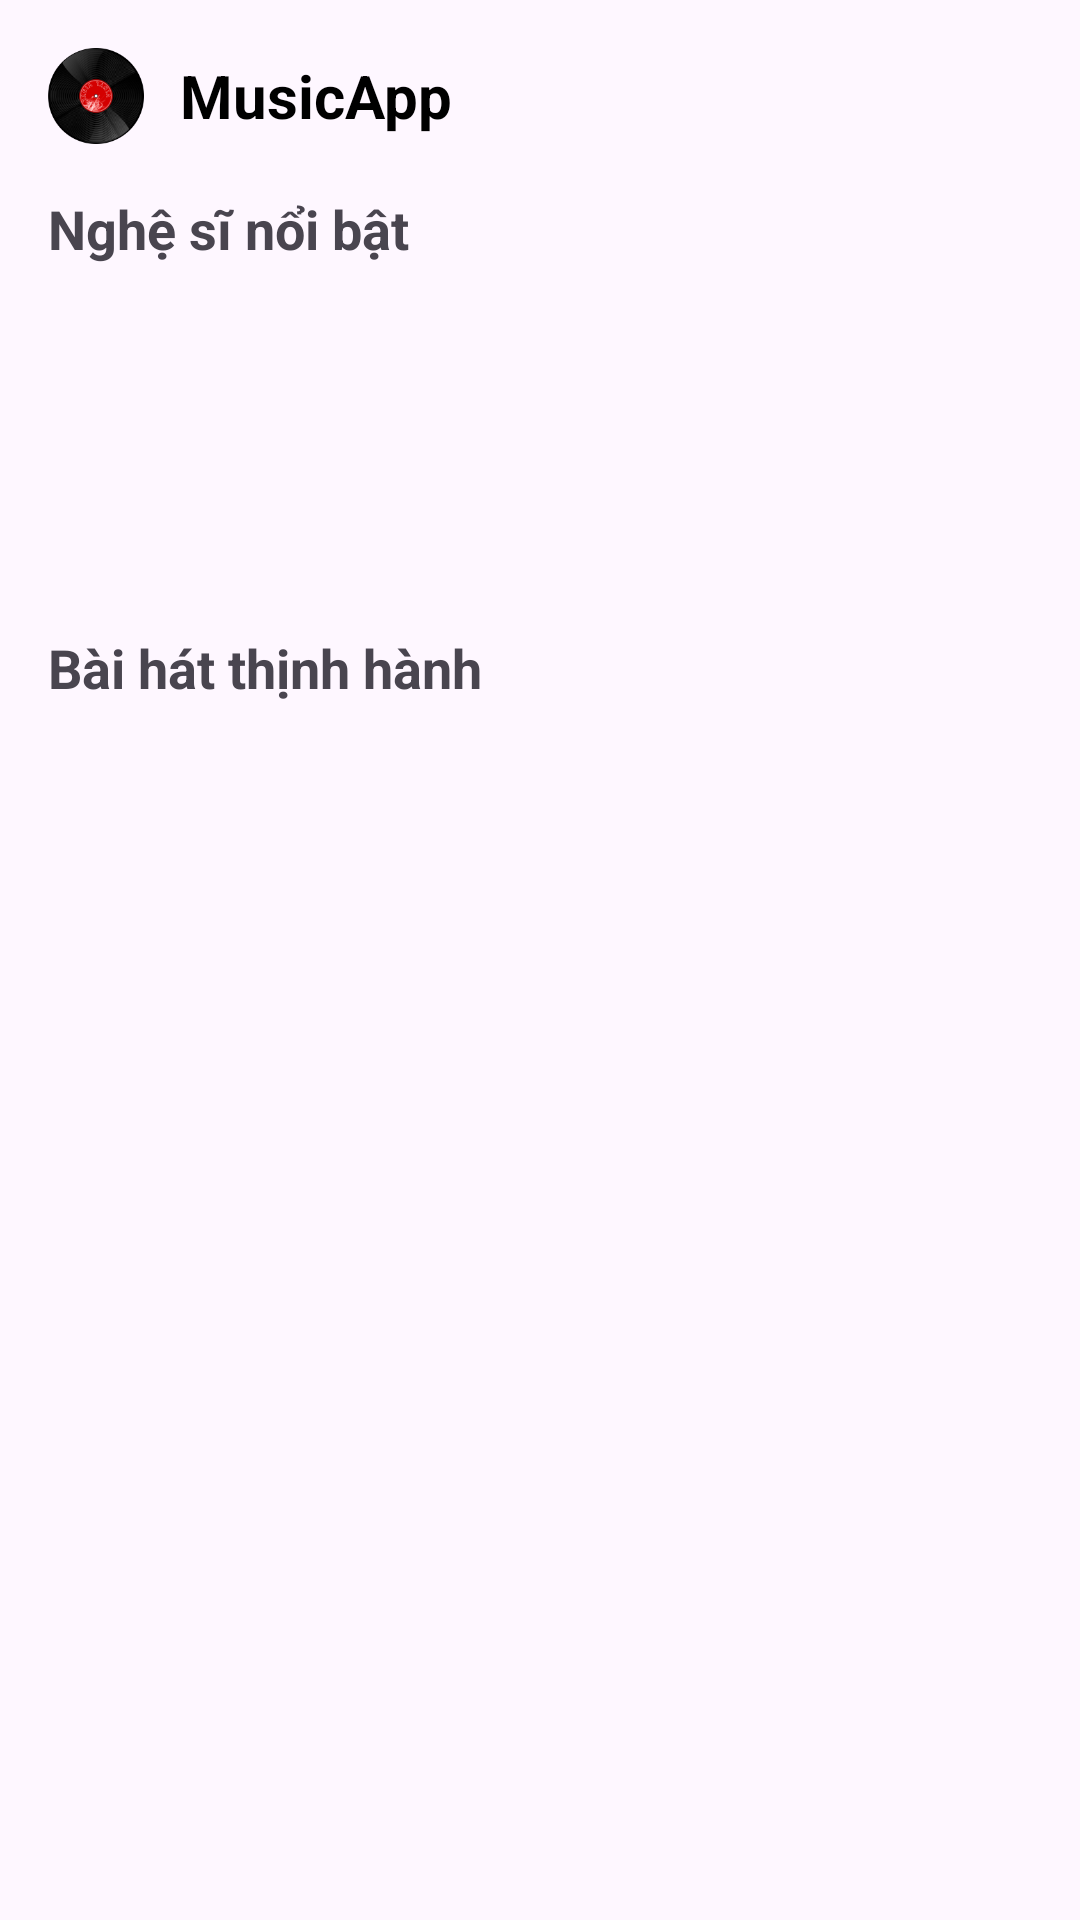

Screen size 1080*1920. Icon name, then its center in pixels as (x,y):
appicon: (96,96)
